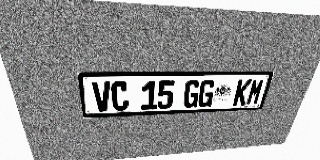1: (141, 81, 158, 110)
5: (157, 80, 175, 109)
C: (110, 81, 129, 111)
G: (197, 80, 216, 107), (183, 80, 201, 108)
K: (232, 79, 252, 106)
M: (245, 79, 265, 105)
V: (92, 81, 112, 112)
